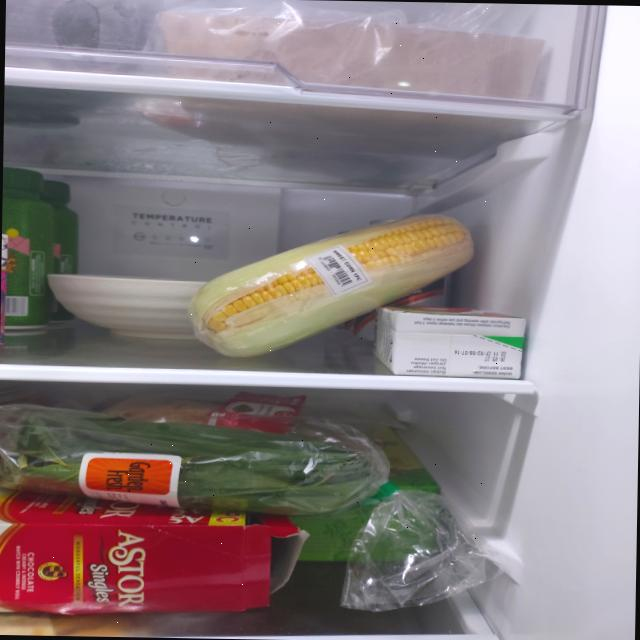corn: (185, 208, 478, 363)
leafy_greens: (0, 403, 373, 517)
